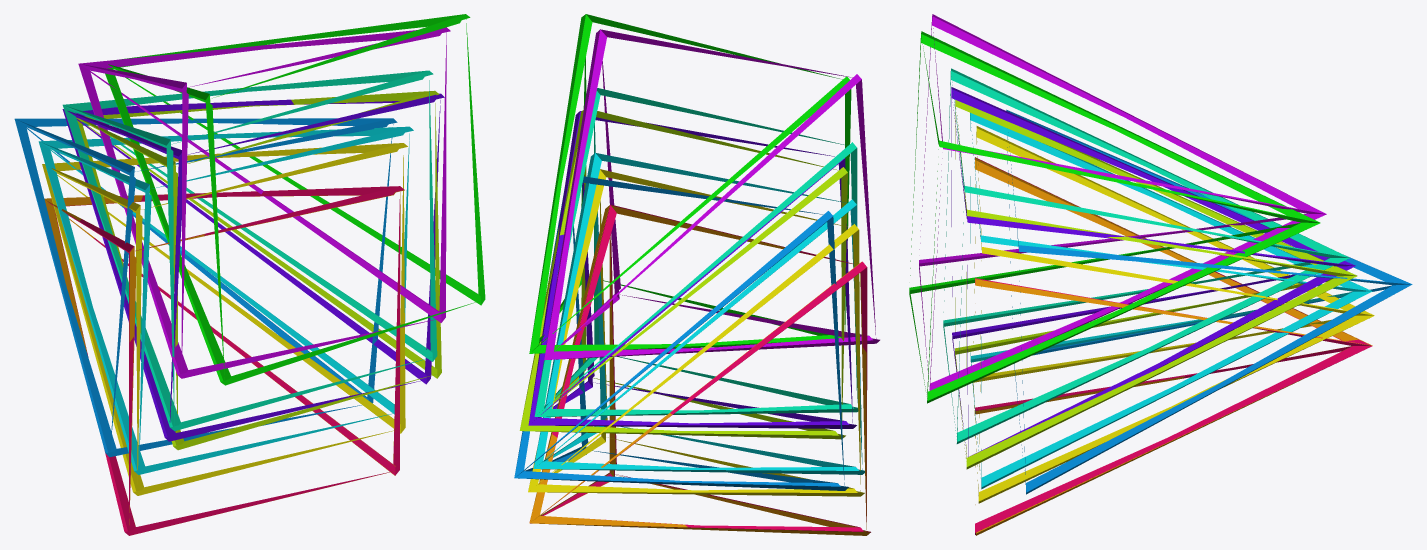
Rendered from glbscene_76.1_All_maskbFalse_maskwFalse_camTrue_skyFalse_predDepthmap_and_Camera_Branch.glb.
3 renders of one model, left to right at view 1: azimuth 30°, elevation 25°; view 2: azimuth 150°, elevation 25°; view 3: azimuth 270°, elevation 25°, orthographic. The views are drawn at different scales.
Visible parts, largest first — view 1: world; view 2: world; view 3: world.
Boxes of the visible parts, x1=… form: world: x1=14, y1=14, x2=485, y2=535; world: x1=514, y1=14, x2=879, y2=535; world: x1=909, y1=14, x2=1412, y2=535.
Size of the model in its own units: 0.0901 by 0.1204 by 0.1308.
